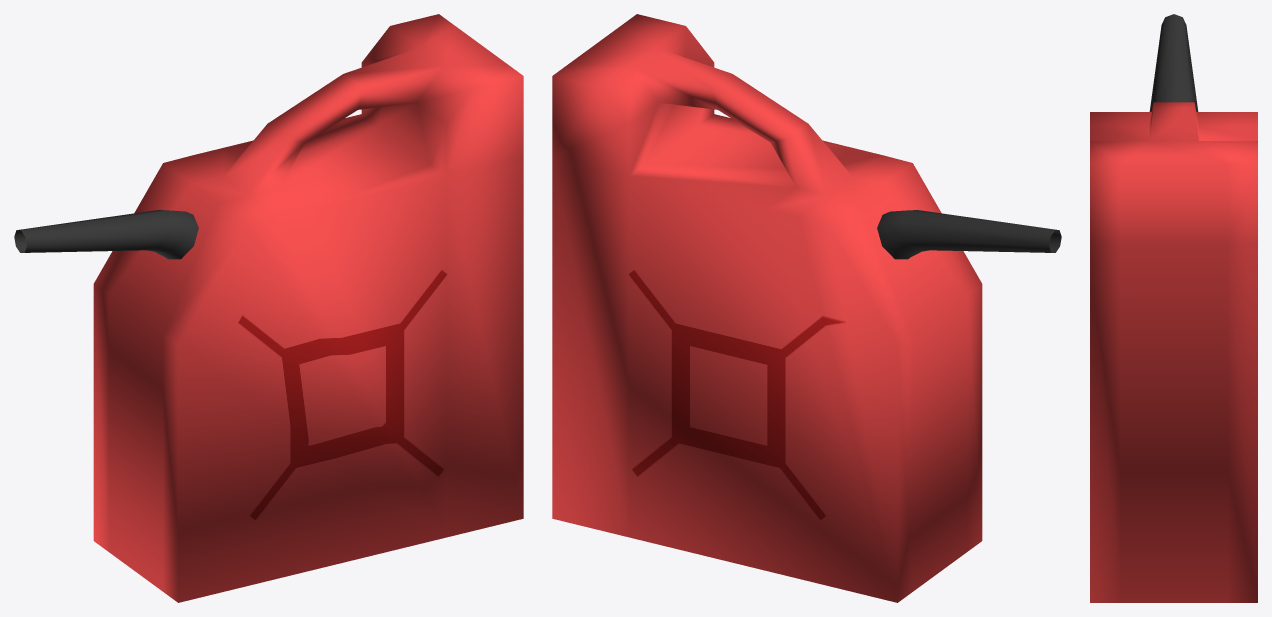
The model's file is bensin.fbx.
The picture shows the model from 3 angles, left to right: view 1: azimuth 30°, elevation 25°; view 2: azimuth 150°, elevation 25°; view 3: azimuth 270°, elevation 25°; orthographic projection.
Parts seen in each view (by area): view 1: Cylinder.001; view 2: Cylinder.001; view 3: Cylinder.001.
Part boxes in pixels (x1,y1,x2,y2): Cylinder.001: (14,14,523,602); Cylinder.001: (552,14,1061,602); Cylinder.001: (1090,14,1257,602).
Bounding box in the file's own units: 267 × 245 × 84.97.
Materials: 1 (1 with a texture image).
